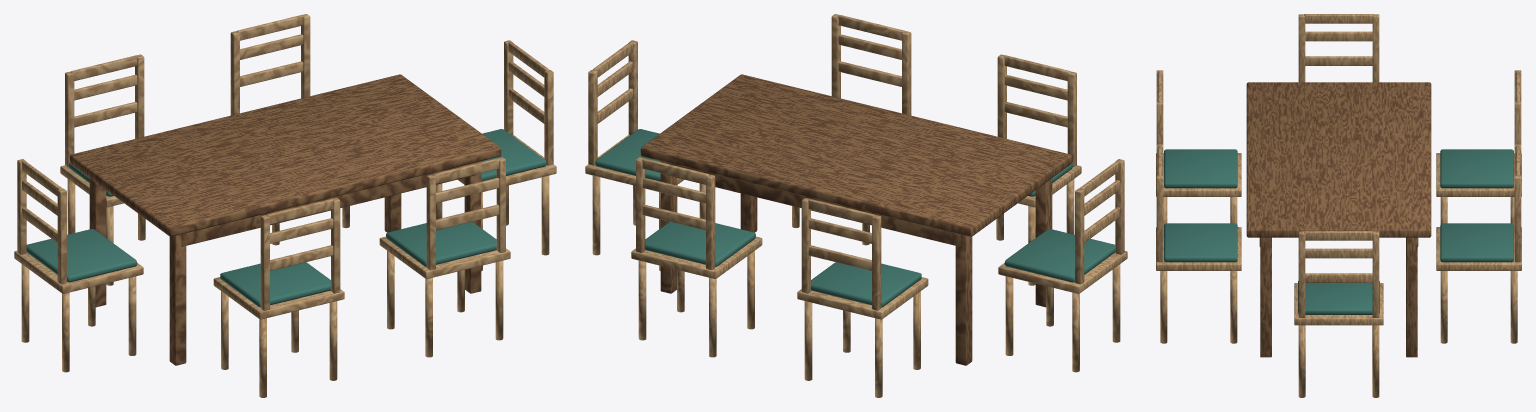
File: table_chairs.fbx
3 renders of one model, left to right at view 1: azimuth 30°, elevation 25°; view 2: azimuth 150°, elevation 25°; view 3: azimuth 270°, elevation 25°, orthographic. The views are drawn at different scales.
Visible parts, largest first — view 1: table_chairs; view 2: table_chairs; view 3: table_chairs.
Boxes of the visible parts, x1=… form: table_chairs: x1=14, y1=14, x2=556, y2=397; table_chairs: x1=585, y1=14, x2=1127, y2=397; table_chairs: x1=1156, y1=14, x2=1521, y2=397.
Bounding box in the file's own units: 268 × 94.5 × 188.
1 material, 1 textured.
